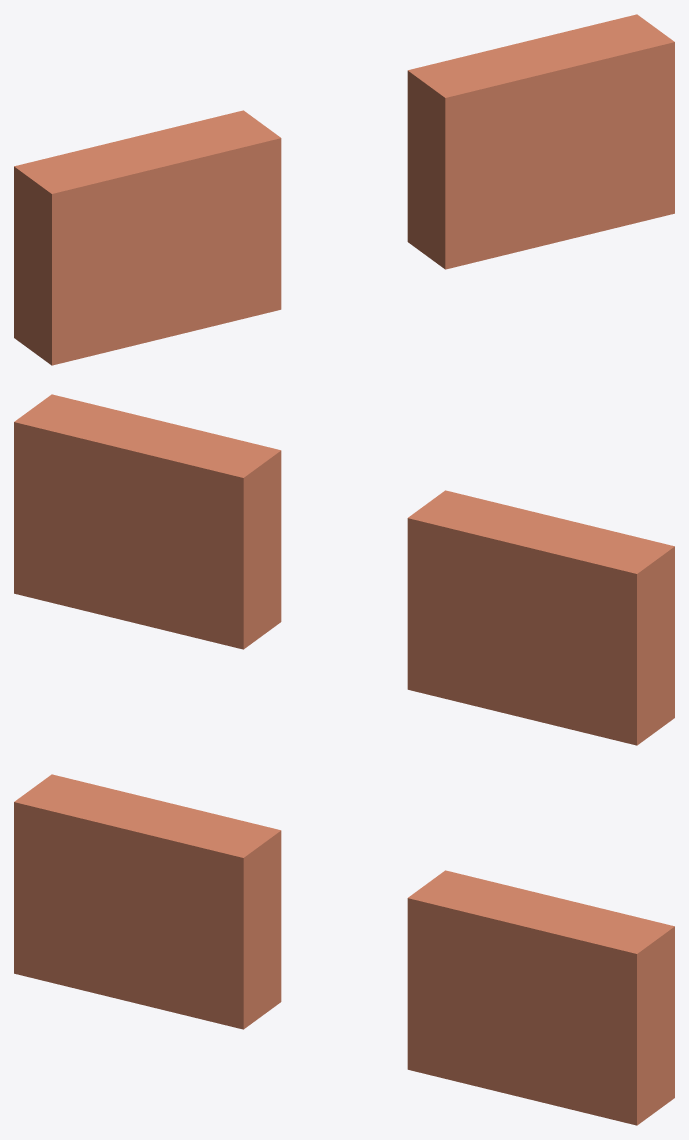
The model's file is breach.open.gltf.
The picture shows the model from 3 angles, top to bottom: view 1: azimuth 30°, elevation 25°; view 2: azimuth 150°, elevation 25°; view 3: azimuth 330°, elevation 25°; orthographic projection.
Size of the model in its own units: 38 by 10 by 4.
